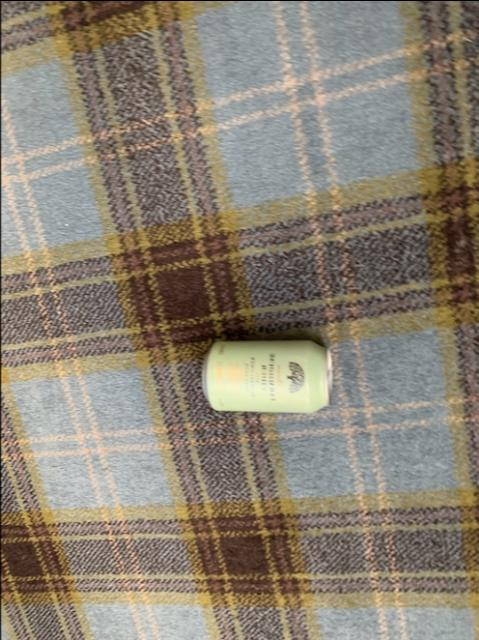metal: (200, 341, 330, 413)
